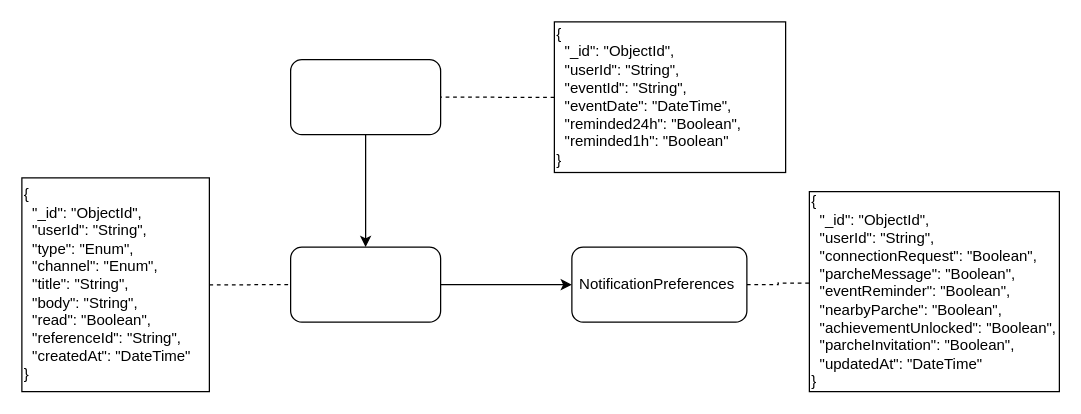
This 1081x414 diagram has some shape labels left out. Each missing label, with the centre of its shape:
"EventReminder" goes at (365,96).
"Notification" goes at (365,284).
